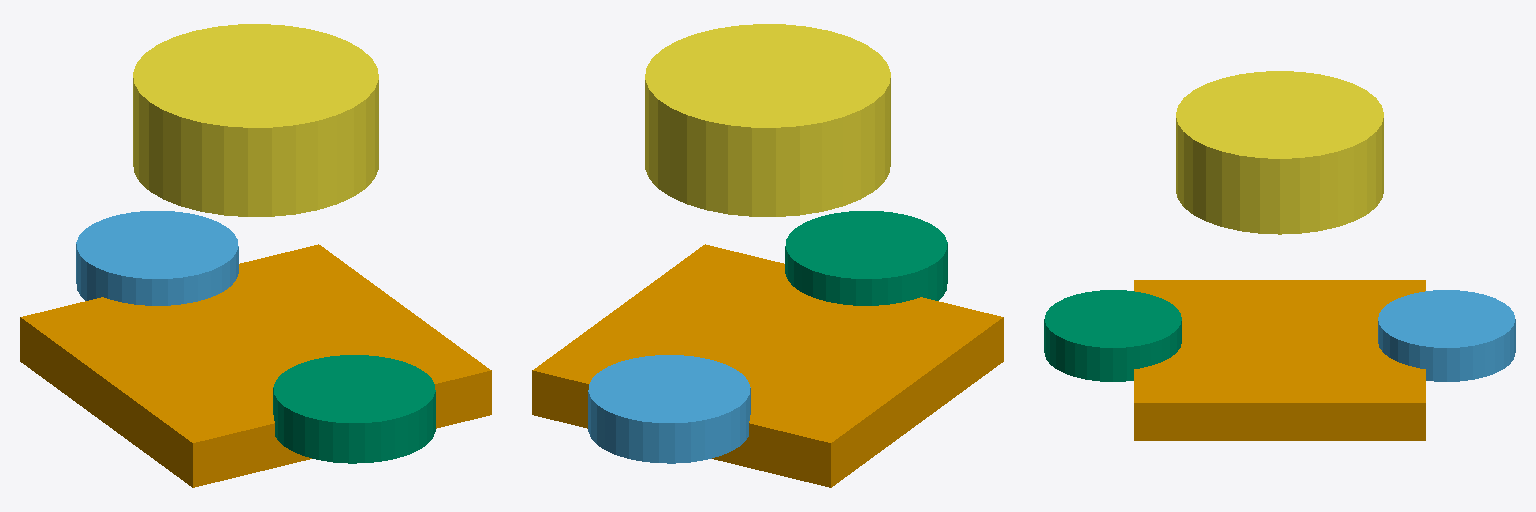
URDF robot description (turtlebot3_burger):
<?xml version="1.0"?>
<robot name="turtlebot3_burger">
  <link name="base_link">
    <visual>
      <origin xyz="0 0 0.01" rpy="0 0 0"/>
      <geometry>
        <box size="0.14 0.14 0.02"/>
      </geometry>
    </visual>
  </link>
  <link name="wheel_left_link">
    <visual>
      <origin xyz="0 0 0" rpy="1.57 0 0"/>
      <geometry>
        <cylinder radius="0.033" length="0.018"/>
      </geometry>
    </visual>
  </link>
  <link name="wheel_right_link">
    <visual>
      <origin xyz="0 0 0" rpy="1.57 0 0"/>
      <geometry>
        <cylinder radius="0.033" length="0.018"/>
      </geometry>
    </visual>
  </link>
  <link name="base_scan">
    <visual>
      <origin xyz="0 0 0.06" rpy="0 0 0"/>
      <geometry>
        <cylinder radius="0.05" length="0.04"/>
      </geometry>
    </visual>
  </link>

  <joint name="wheel_left_joint" type="continuous">
    <parent link="base_link"/>
    <child link="wheel_left_link"/>
    <origin xyz="0 0.08 0.023" rpy="-1.57 0 0"/>
    <axis xyz="0 0 1"/>
  </joint>
  <joint name="wheel_right_joint" type="continuous">
    <parent link="base_link"/>
    <child link="wheel_right_link"/>
    <origin xyz="0 -0.08 0.023" rpy="-1.57 0 0"/>
    <axis xyz="0 0 1"/>
  </joint>
  <joint name="scan_joint" type="fixed">
    <parent link="base_link"/>
    <child link="base_scan"/>
    <origin xyz="0 0 0.06" rpy="0 0 0"/>
  </joint>
</robot>

--- Facts derived from the render (not from the file) ---
The picture shows the robot from 3 angles, left to right: view 1: azimuth 30°, elevation 25°; view 2: azimuth 150°, elevation 25°; view 3: azimuth 270°, elevation 25°; orthographic projection.
Model turtlebot3_burger with 4 links and 3 joints (2 continuous, 1 fixed), rooted at base_link, posed all joints at 0.
Visible links, largest first — view 1: base_link, base_scan, wheel_right_link, wheel_left_link; view 2: base_link, base_scan, wheel_left_link, wheel_right_link; view 3: base_link, base_scan, wheel_left_link, wheel_right_link.
Link boxes in pixels (x1,y1,x2,y2): base_link: [20, 244, 491, 487]; base_scan: [133, 24, 378, 216]; wheel_right_link: [273, 355, 435, 463]; wheel_left_link: [76, 211, 238, 305]; base_link: [532, 244, 1003, 487]; base_scan: [645, 24, 890, 216]; wheel_left_link: [588, 355, 750, 463]; wheel_right_link: [785, 211, 947, 305]; base_link: [1134, 280, 1425, 440]; base_scan: [1176, 71, 1383, 234]; wheel_left_link: [1378, 290, 1515, 381]; wheel_right_link: [1044, 290, 1181, 381].
Bounding box of the posed robot: 0.14 × 0.226 × 0.14 m (x, y, z).
Geometry: primitives only (box / cylinder / sphere), no mesh files.
